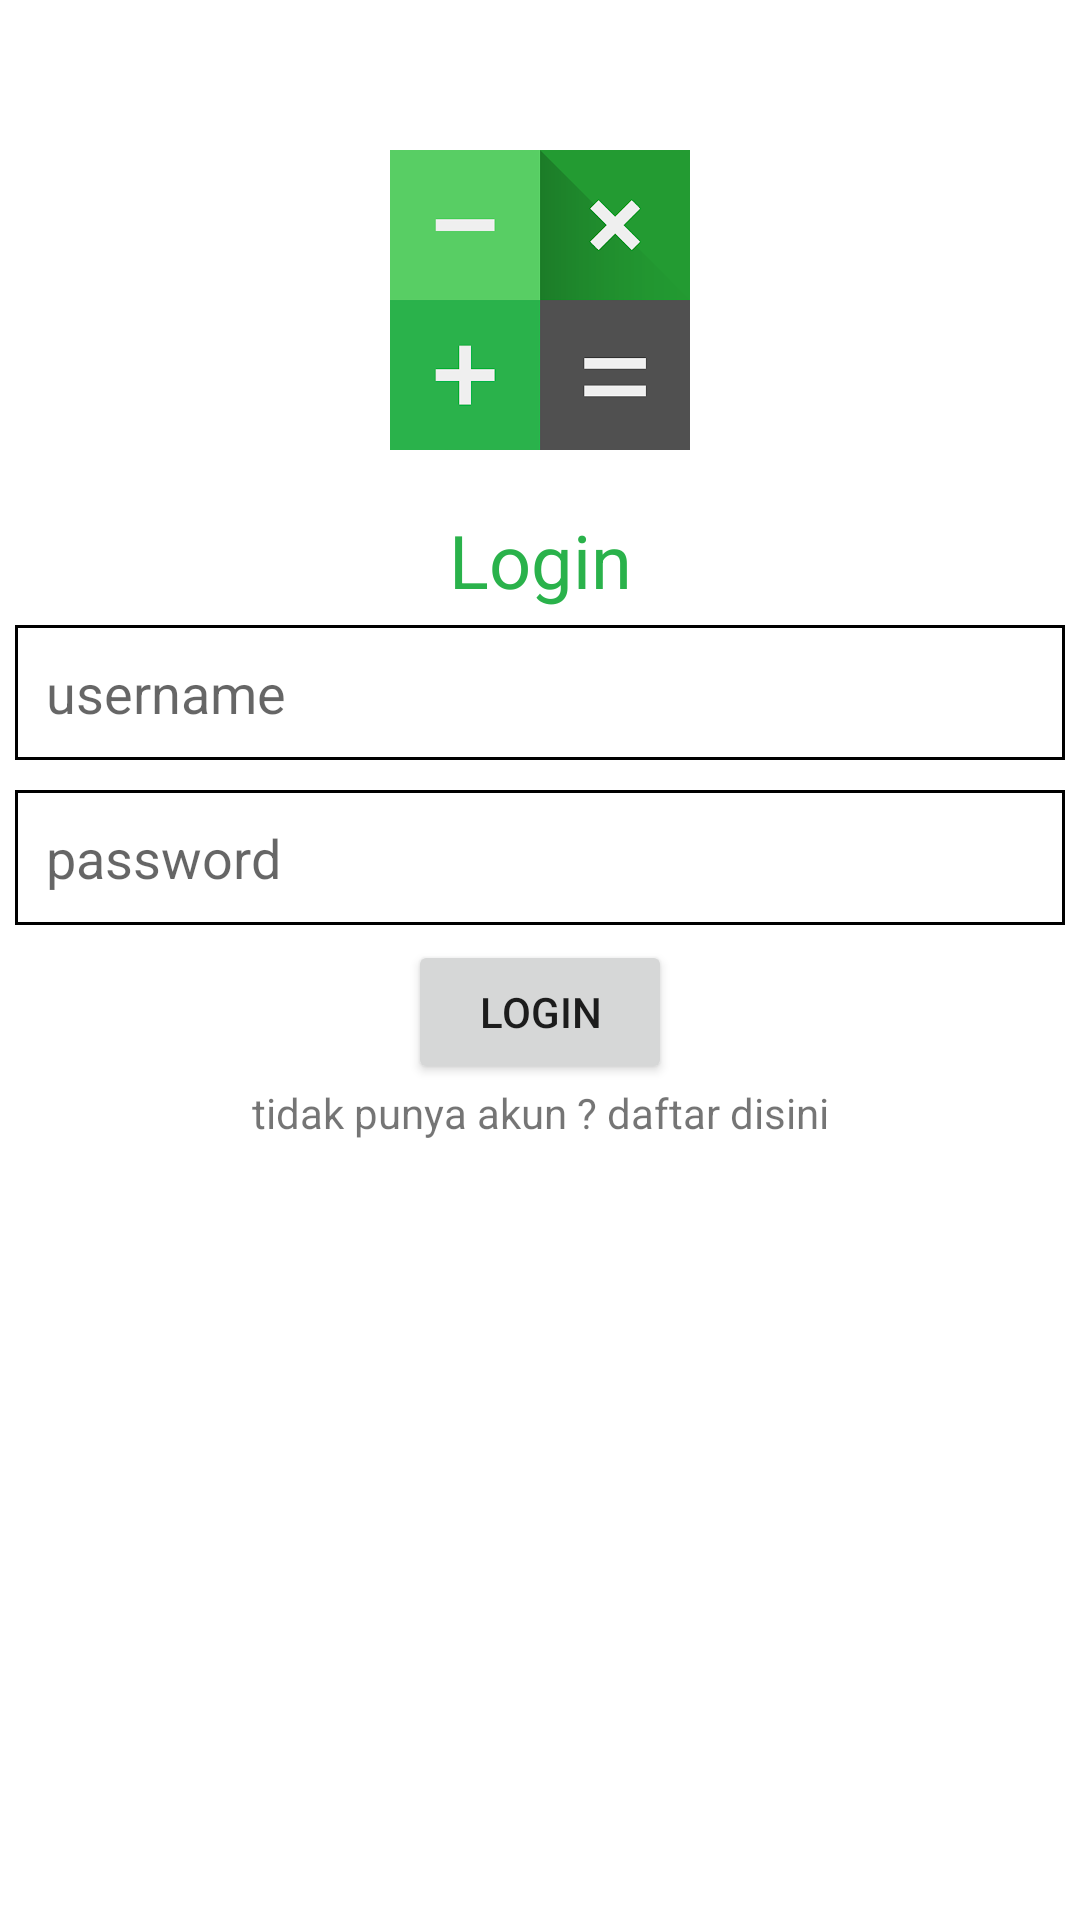

Icons on this 1080w x 1920h Android screen, each with the point to tap as (x=x, y=y):
ikon: (x=540, y=300)
